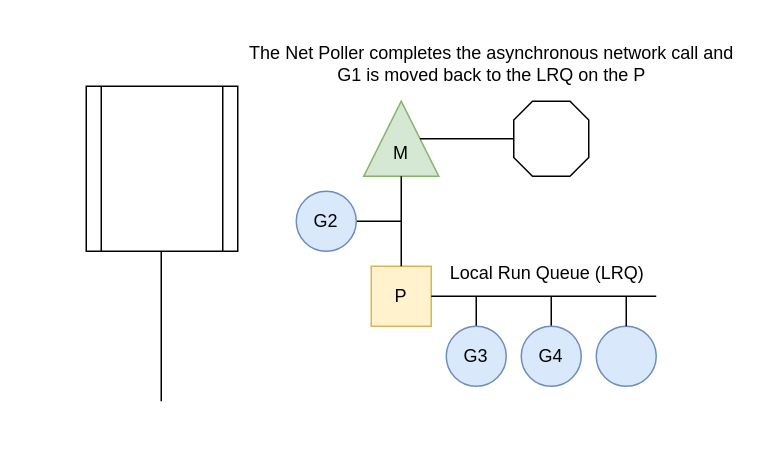
Image size: 771x471. Some labels were removed from this diagram. Here are the shapes that lost their labels. From the top down, the box of each, then its label:
(512, 100, 589, 176): Core
(85, 85, 238, 251): Net Poller
(595, 325, 656, 386): G1
